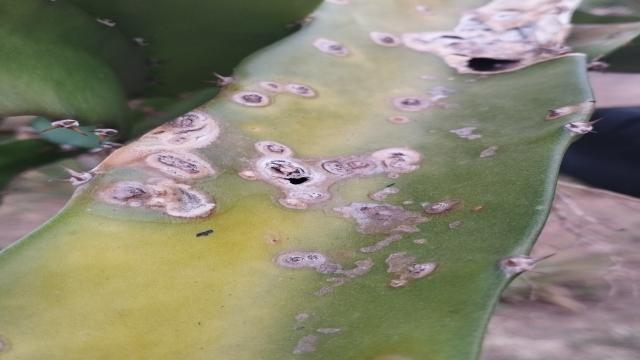stemcanker: (0, 74, 541, 360), (304, 28, 403, 65)
